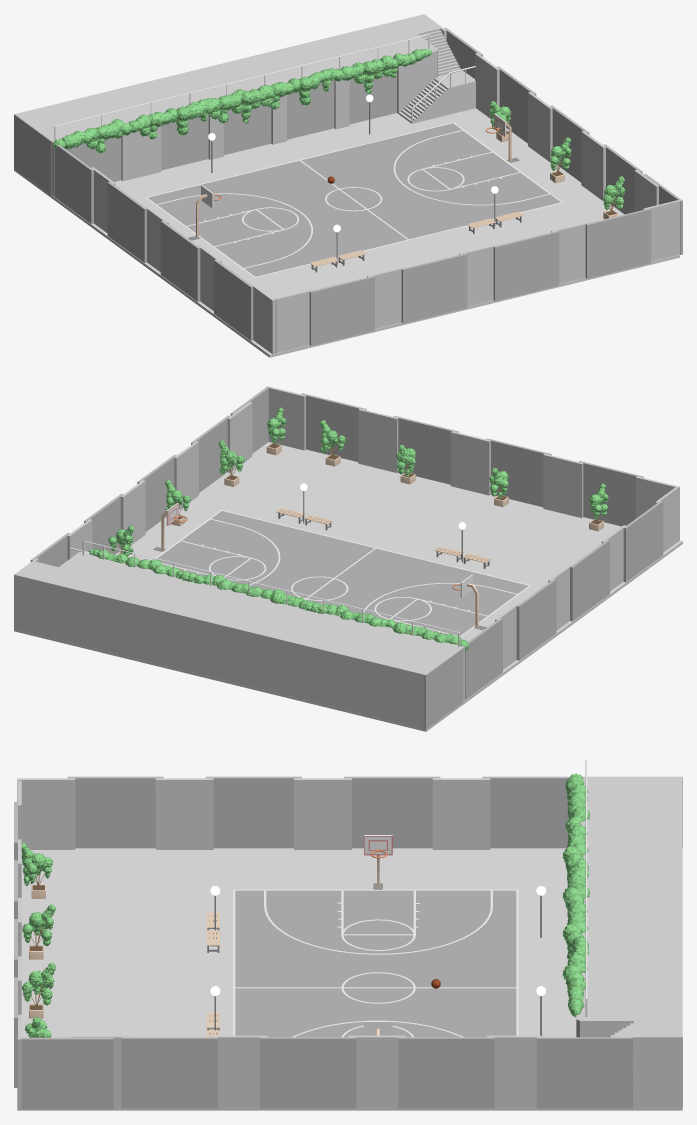
The model's file is basketball_court.glb.
3 renders of one model, top to bottom at view 1: azimuth 30°, elevation 25°; view 2: azimuth 150°, elevation 25°; view 3: azimuth 270°, elevation 25°, orthographic. The views are drawn at different scales.
Parts seen in each view (by area): view 1: Cube, Cube_5, Volume_Mesher_2, Volume_Mesher, Cube_1_1_7, Cube_1_3_8, Cube_1_2_8, Cube_1_0_7, Cube_1_2_6, Cube_1_3_6, Cube_1_1_5, Cube_1_0_5 (+22 smaller); view 2: Cube, Cube_5, Cube_1_1_7, Cube_1_2_8, Cube_1_3_8, Cube_1_0_7, Cube_1_1_5, Cube_1_3_6, Cube_1_1_8, Cube_1_2_9, Cube_1_2_6, Cube_1_3_9 (+24 smaller); view 3: Cube, Cube_5, Cube_1_0_3, Cube_1_1_3, Cube_1_2_4, Cube_1_3_4, Cube_1_12, Cube_1_3_6, Cube_1_2_6, Cube_1_0_5, Cube_1_1_5, Cube_1_1_6 (+19 smaller).
Boxes of the visible parts, x1,y1,x2,y2 form: Cube: (14,108,679,357); Cube_5: (14,20,437,196); Volume_Mesher_2: (188,49,431,123); Volume_Mesher: (53,79,300,153); Cube_1_1_7: (401,253,467,323); Cube_1_3_8: (585,208,651,278); Cube_1_2_8: (493,231,559,301); Cube_1_0_7: (309,276,374,345); Cube_1_2_6: (160,220,200,301); Cube_1_3_6: (214,259,253,340); Cube_1_1_5: (107,182,146,262); Cube_1_0_5: (54,145,93,223); Cube: (14,442,682,731); Cube_5: (39,551,465,728); Cube_1_1_7: (486,438,551,507); Cube_1_2_8: (393,415,458,484); Cube_1_3_8: (301,393,366,461); Cube_1_0_7: (578,461,643,526); Cube_1_1_5: (516,579,556,660); Cube_1_3_6: (623,501,663,582); Cube_1_1_8: (543,454,583,517); Cube_1_2_9: (450,431,490,495); Cube_1_2_6: (570,540,609,621); Cube_1_3_9: (358,408,398,472); Cube: (17,848,682,1110); Cube_5: (576,776,682,1037); Cube_1_0_3: (121,1037,217,1108); Cube_1_1_3: (260,1037,356,1108); Cube_1_2_4: (398,1037,494,1108); Cube_1_3_4: (536,1037,632,1108); Cube_1_12: (17,1037,113,1109); Cube_1_3_6: (67,776,163,848); Cube_1_2_6: (205,776,301,848); Cube_1_0_5: (482,776,570,848); Cube_1_1_5: (344,776,440,848); Cube_1_1_6: (432,778,490,849).
Size of the model in its own units: 3233 by 529 by 3470.
Materials: 15 (1 with a texture image).
